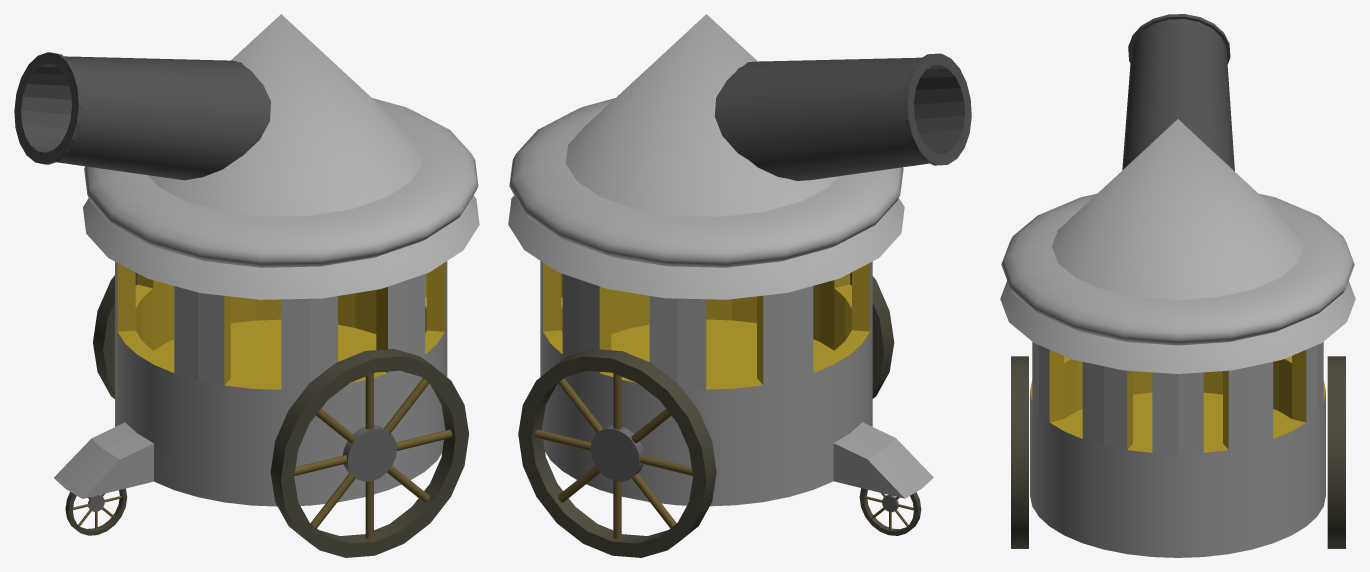
The model's file is stronk_enemy.fbx.
The picture shows the model from 3 angles, left to right: view 1: azimuth 30°, elevation 25°; view 2: azimuth 150°, elevation 25°; view 3: azimuth 270°, elevation 25°; orthographic projection. The views are drawn at different scales.
Visible parts, largest first — view 1: pCylinder14, pCone1, pCylinder4, pTorus1, pPipe4, pCylinder13, pCylinder12, pPipe3, pPipe5; view 2: pCylinder14, pCone1, pCylinder4, pTorus1, pPipe3, pCylinder11, pCylinder10, pPipe4, pPipe5; view 3: pCylinder14, pCone1, pTorus1, pCylinder4, pPipe3, pPipe4.
Part boxes in pixels (left/top/right/bottom): pCylinder14: left=54, top=261, right=447, bottom=506; pCone1: left=83, top=14, right=479, bottom=299; pCylinder4: left=14, top=52, right=270, bottom=180; pTorus1: left=84, top=98, right=478, bottom=267; pPipe4: left=270, top=348, right=468, bottom=557; pCylinder13: left=294, top=373, right=452, bottom=539; pCylinder12: left=343, top=425, right=396, bottom=481; pPipe3: left=93, top=272, right=137, bottom=398; pPipe5: left=65, top=488, right=127, bottom=535; pCylinder14: left=540, top=261, right=933, bottom=506; pCone1: left=508, top=14, right=904, bottom=299; pCylinder4: left=714, top=53, right=971, bottom=180; pTorus1: left=509, top=98, right=903, bottom=267; pPipe3: left=518, top=349, right=716, bottom=557; pCylinder11: left=535, top=373, right=692, bottom=539; pCylinder10: left=590, top=425, right=644, bottom=481; pPipe4: left=850, top=272, right=894, bottom=398; pPipe5: left=859, top=488, right=921, bottom=535; pCylinder14: left=1030, top=342, right=1325, bottom=557; pCone1: left=1000, top=119, right=1355, bottom=373; pTorus1: left=1001, top=194, right=1354, bottom=345; pCylinder4: left=1122, top=14, right=1234, bottom=171; pPipe3: left=1327, top=356, right=1345, bottom=548; pPipe4: left=1011, top=356, right=1028, bottom=548.
Size of the model in its own units: 16.09 by 17.73 by 13.2.
